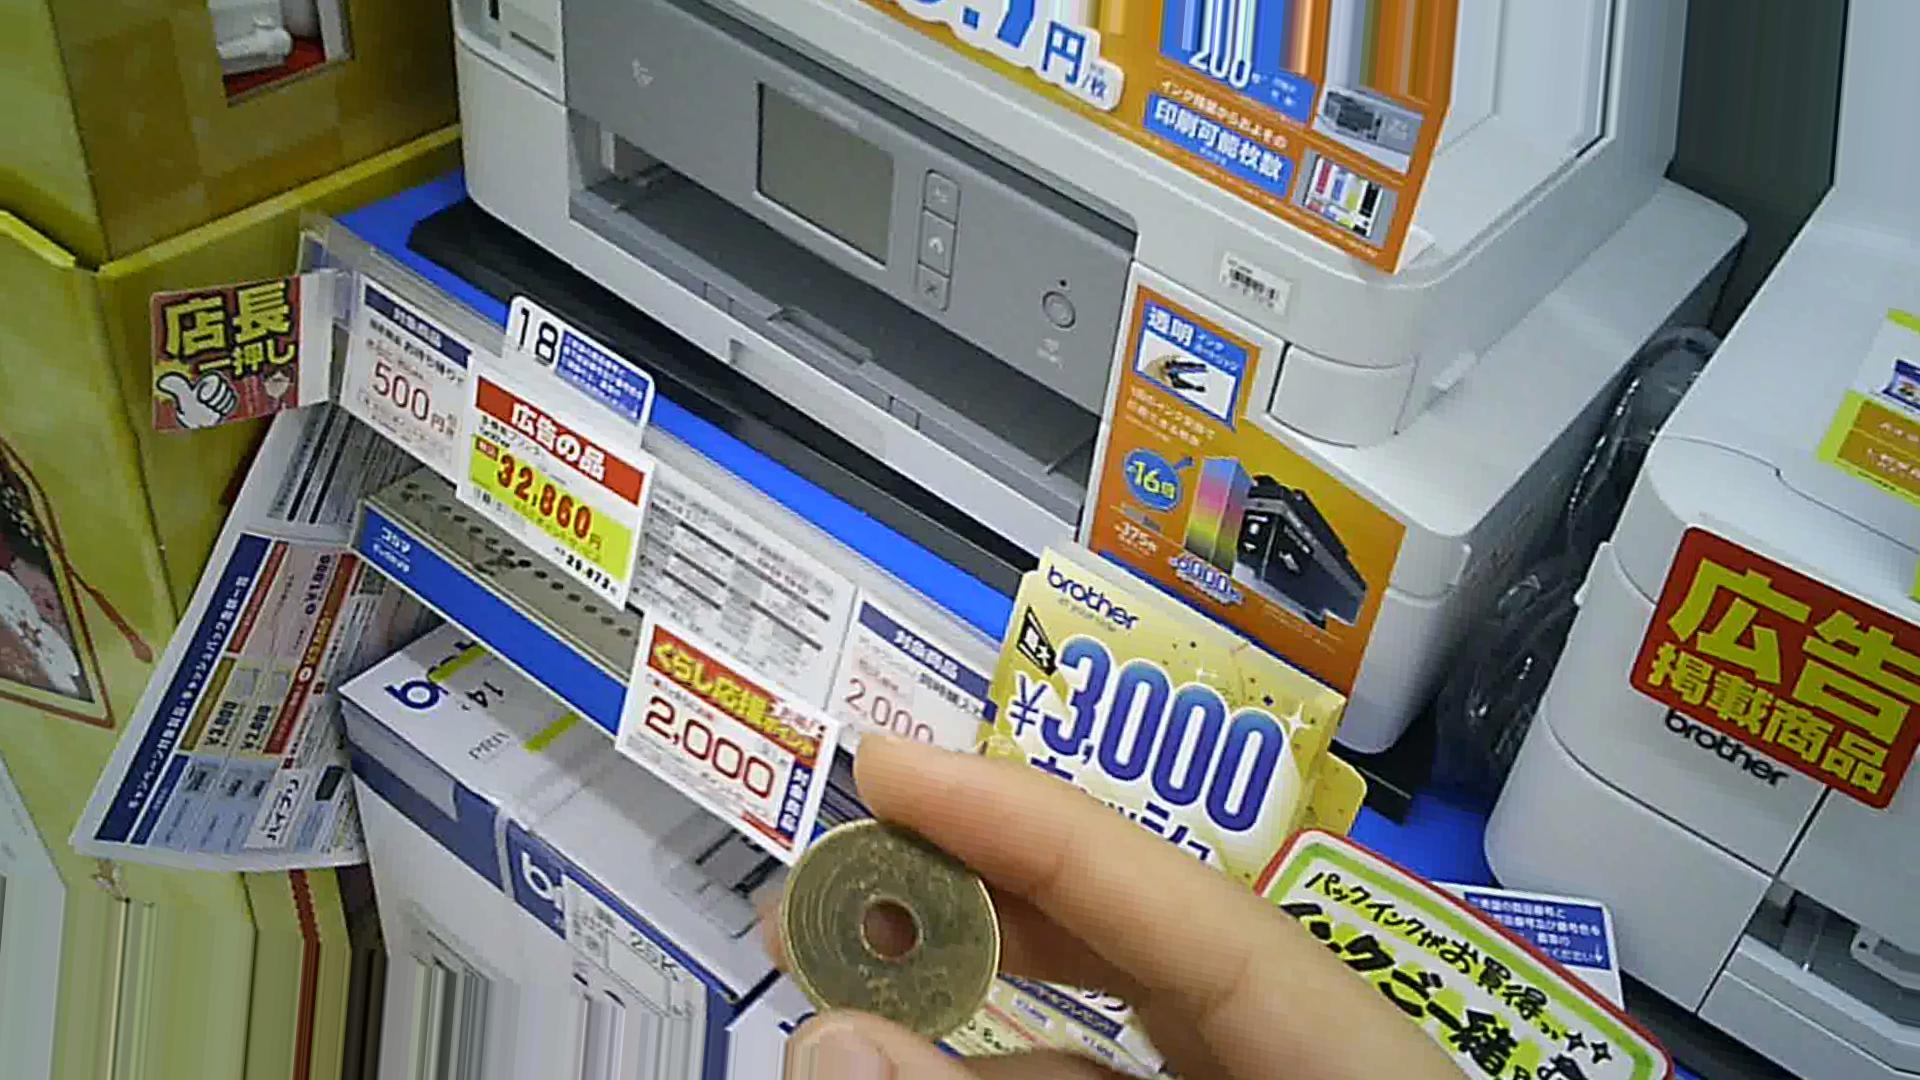5 Yen: (781, 806, 1005, 1051)
